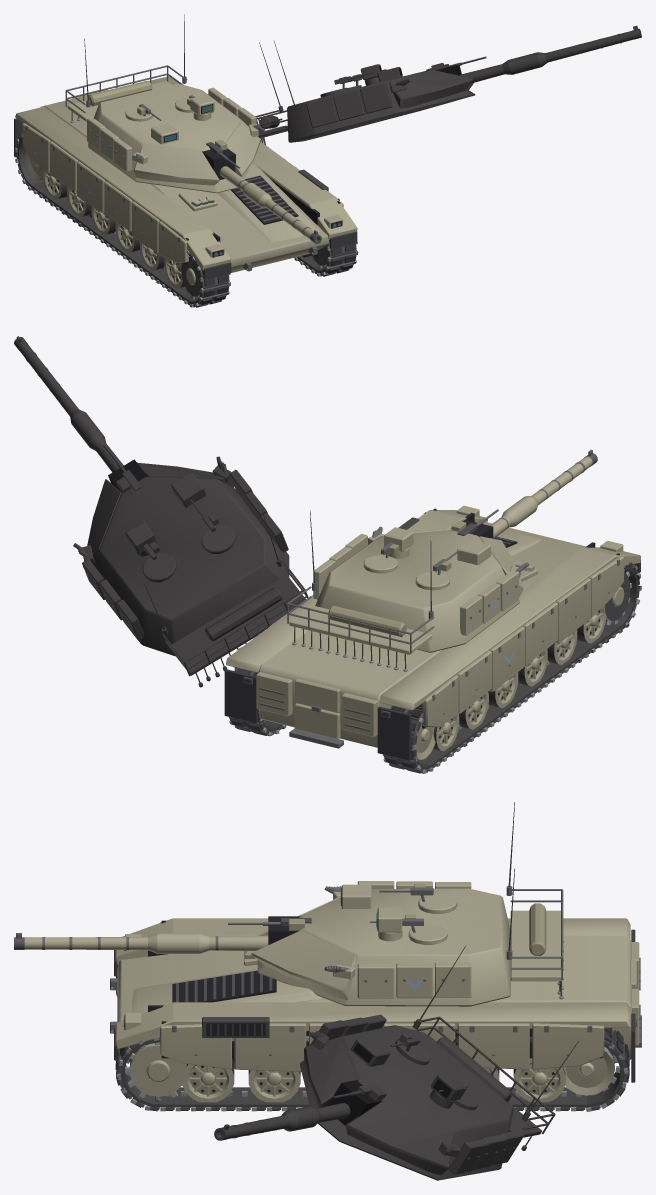
Rendered from tank__merkava_mk_3_baz.glb.
3 renders of one model, top to bottom at view 1: azimuth 30°, elevation 25°; view 2: azimuth 150°, elevation 25°; view 3: azimuth 270°, elevation 25°, orthographic. The views are drawn at different scales.
Parts seen in each view (by area): view 1: Hull_Mesh, Turret_Mesh, Wreck, Track_L_Mesh, Gun_Mesh, Track_R_Mesh, Sprocket_L_Mesh, CITV_Mesh, Wheel_L0_Mesh, Gunner_Sight_Mesh, Wheel_L3_Mesh, Wheel_L2_Mesh (+3 smaller); view 2: Hull_Mesh, Wreck, Turret_Mesh, Track_L_Mesh, Gun_Mesh, Sprocket_L_Mesh, Hatch_Loader_Mesh, Hatch_Commander_Mesh, Wheel_L1_Mesh, Gunner_Sight_Mesh, Wheel_L3_Mesh, Wheel_L5_Mesh (+5 smaller); view 3: Hull_Mesh, Wreck, Turret_Mesh, Track_R_Mesh, Gun_Mesh, Sprocket_R_Mesh, Wheel_R5_Mesh, Idler_R_Mesh, Wheel_R0_Mesh, Wheel_R4_Mesh, Hatch_Loader_Mesh, Hatch_Commander_Mesh (+2 smaller).
Boxes of the visible parts, box(x1,y1,x2,y2) form: Hull_Mesh: box(14, 76, 357, 279); Turret_Mesh: box(65, 65, 260, 193); Wreck: box(15, 25, 641, 306); Track_L_Mesh: box(14, 134, 230, 307); Gun_Mesh: box(206, 139, 321, 243); Track_R_Mesh: box(295, 240, 357, 276); Sprocket_L_Mesh: box(180, 256, 200, 299); CITV_Mesh: box(190, 95, 214, 120); Wheel_L0_Mesh: box(42, 169, 67, 199); Gunner_Sight_Mesh: box(151, 123, 178, 144); Wheel_L3_Mesh: box(115, 222, 139, 252); Wheel_L2_Mesh: box(91, 206, 115, 235); Hull_Mesh: box(224, 505, 640, 760); Wreck: box(14, 336, 641, 771); Turret_Mesh: box(287, 520, 523, 671); Track_L_Mesh: box(383, 562, 641, 773); Gun_Mesh: box(451, 449, 597, 538); Sprocket_L_Mesh: box(600, 569, 631, 625); Hatch_Loader_Mesh: box(415, 550, 459, 590); Hatch_Commander_Mesh: box(363, 542, 399, 573); Wheel_L1_Mesh: box(459, 692, 488, 729); Gunner_Sight_Mesh: box(457, 539, 490, 565); Wheel_L3_Mesh: box(518, 649, 547, 686); Wheel_L5_Mesh: box(577, 605, 606, 643); Hull_Mesh: box(110, 918, 641, 1082); Wreck: box(116, 946, 628, 1180); Turret_Mesh: box(251, 881, 563, 1006); Track_R_Mesh: box(115, 1028, 629, 1111); Gun_Mesh: box(14, 918, 311, 953); Sprocket_R_Mesh: box(125, 1042, 192, 1101); Wheel_R5_Mesh: box(182, 1058, 234, 1102); Idler_R_Mesh: box(563, 1047, 614, 1095); Wheel_R0_Mesh: box(513, 1058, 565, 1102); Wheel_R4_Mesh: box(248, 1070, 300, 1102); Hatch_Loader_Mesh: box(379, 884, 457, 913); Hatch_Commander_Mesh: box(370, 914, 447, 944).
Size of what is drawn, in the model's own units: 11.2 by 3.68 by 9.28.
